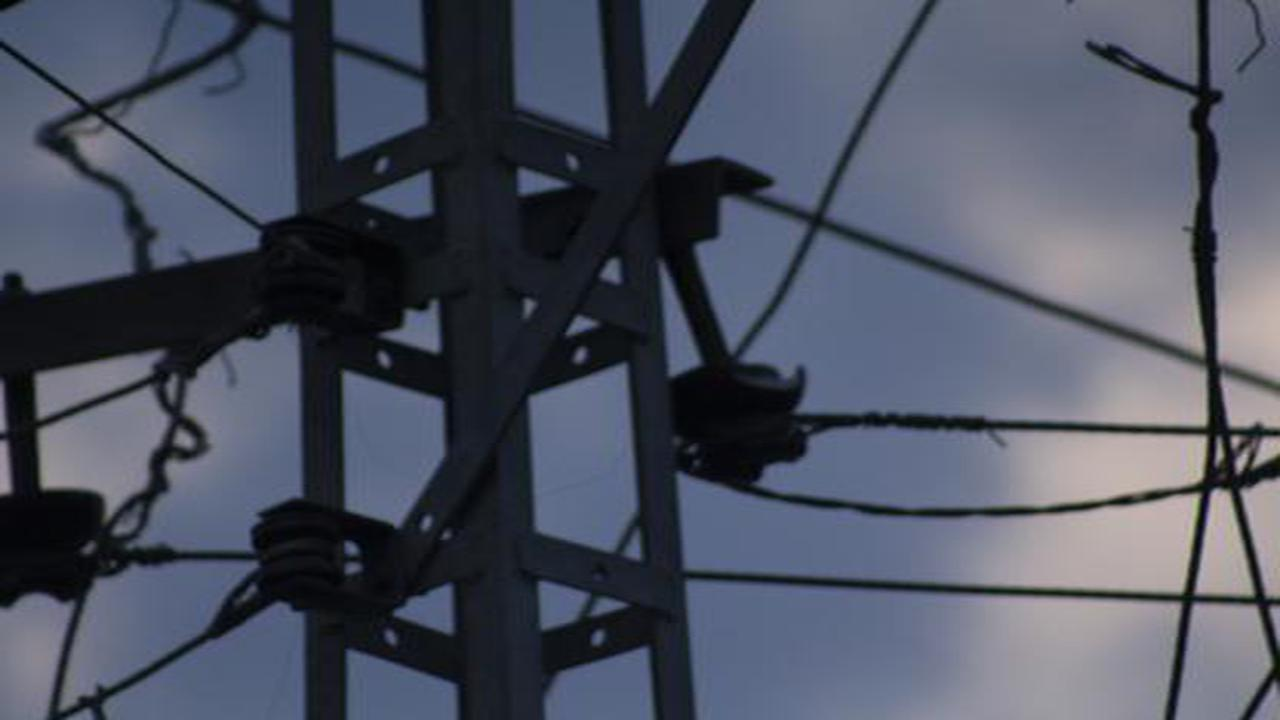insulator_pin: (667, 342, 820, 496)
